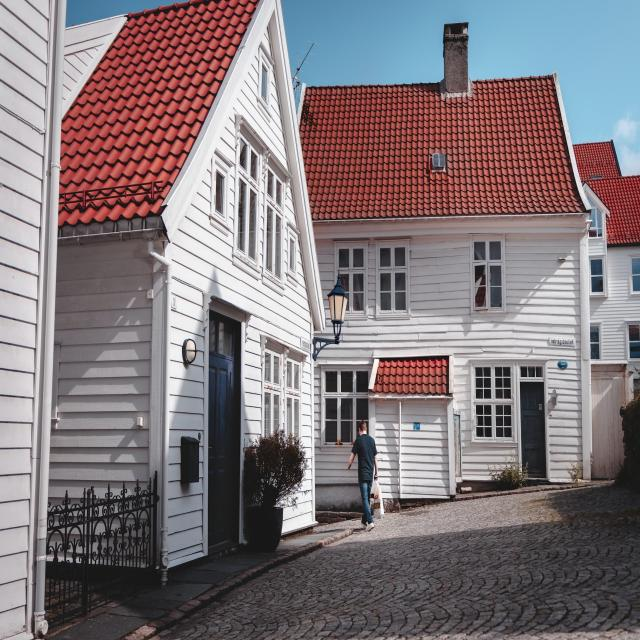adult: (345, 418, 381, 535)
